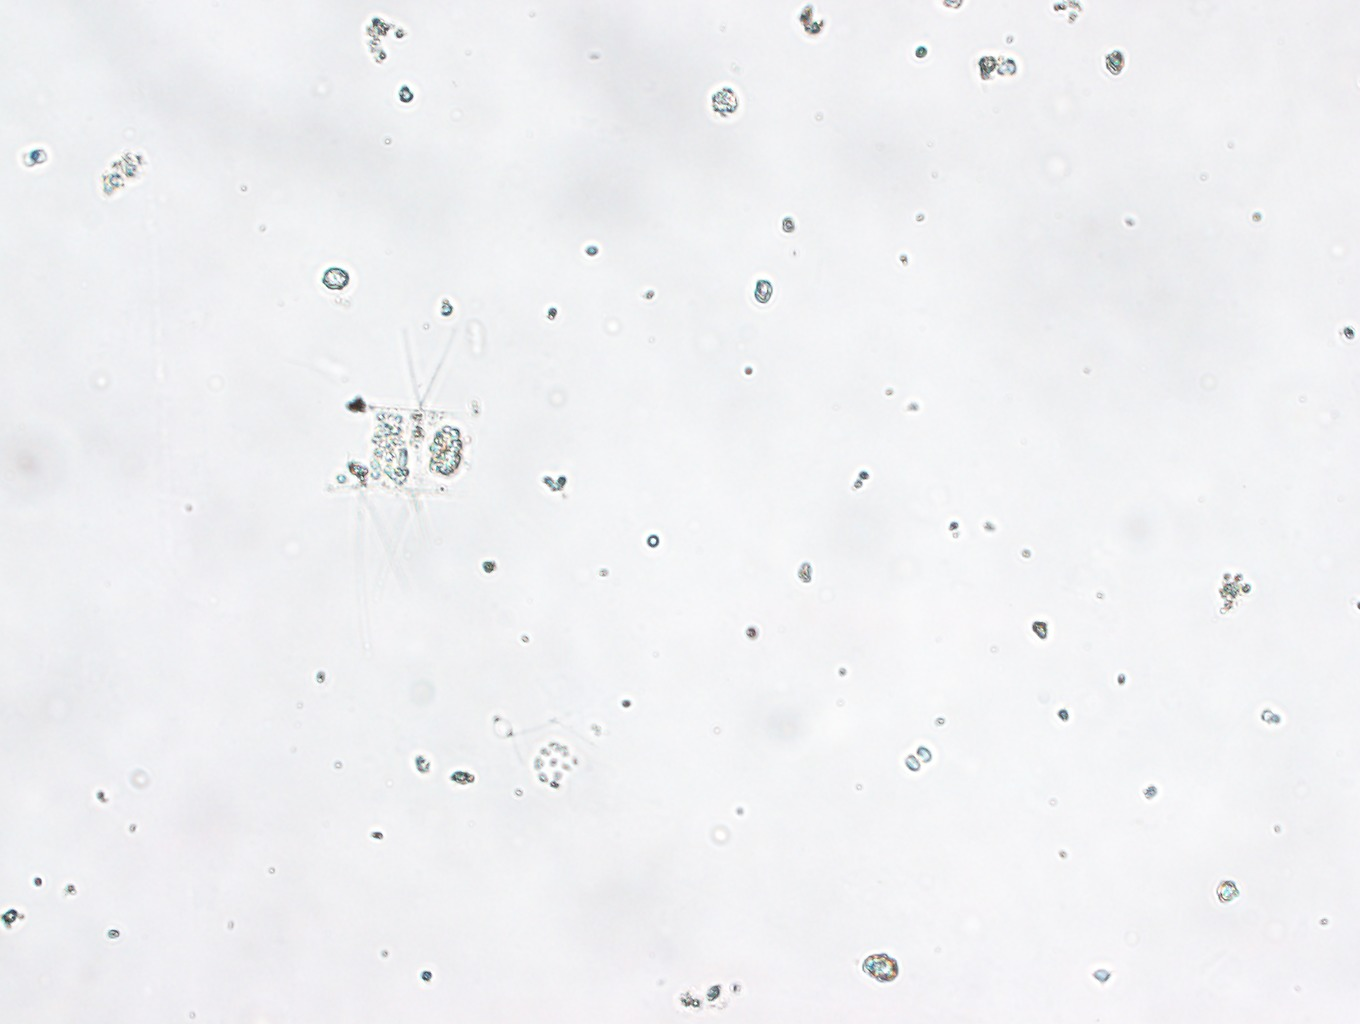chaetoceros: (318, 318, 515, 578)
